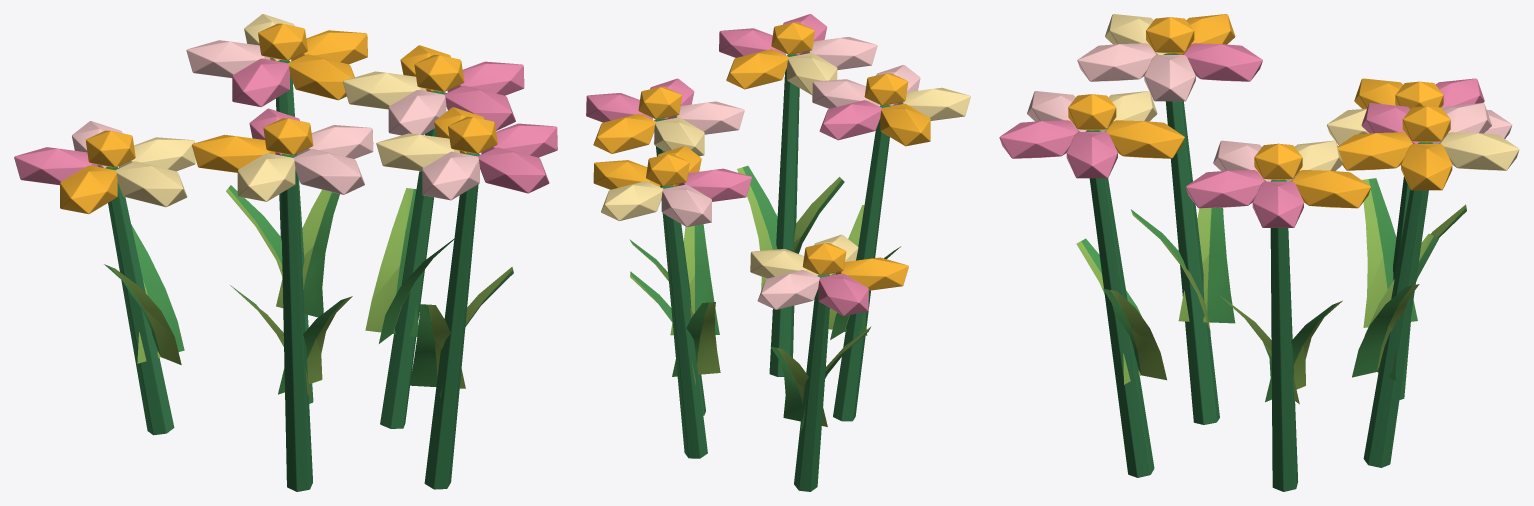
The model's file is flower_clump.glb.
3 views of the same model, side by side, from view 1: azimuth 30°, elevation 25°; view 2: azimuth 150°, elevation 25°; view 3: azimuth 270°, elevation 25° (orthographic). The views are drawn at different scales.
Visible parts, largest first — view 1: Wildflower stem.001; view 2: Wildflower stem.001; view 3: Wildflower stem.001.
Boxes of the visible parts, x1,y1,x2,y2 form: Wildflower stem.001: (14,14,557,491); Wildflower stem.001: (586,14,970,491); Wildflower stem.001: (999,14,1519,491).
Bounding box in the file's own units: 0.7553 × 0.6805 × 0.8215.
